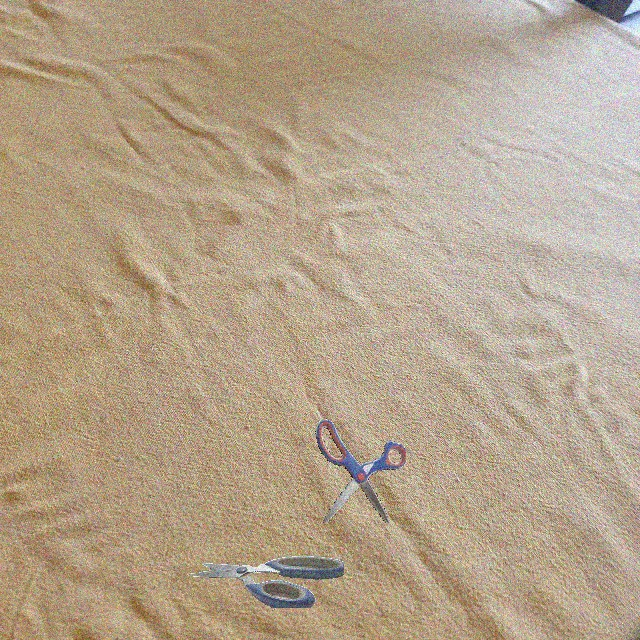scissors: (315, 418, 406, 523), (187, 556, 344, 608)
